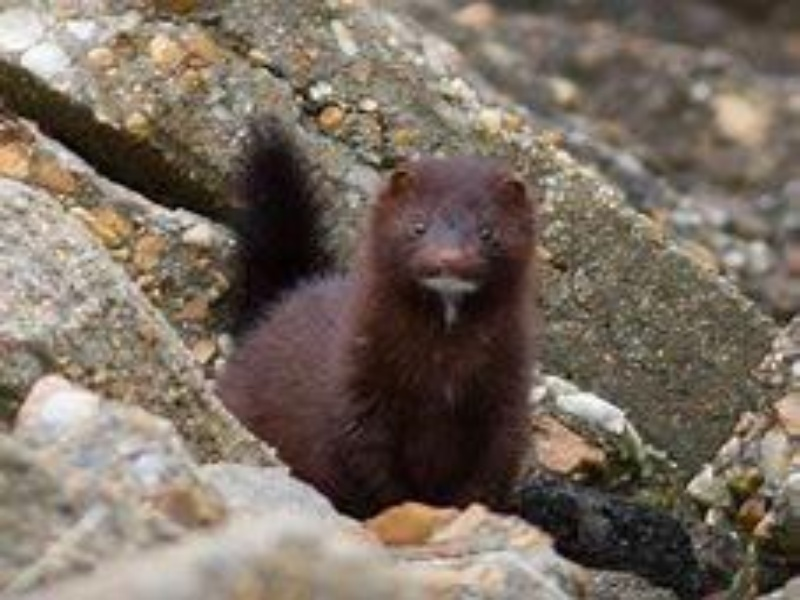minkish: (216, 119, 541, 532)
